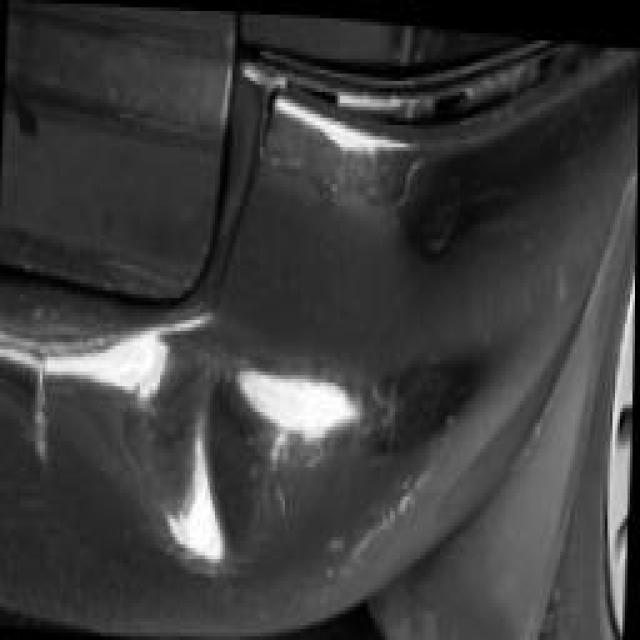Bumper: (18, 283, 445, 632)
